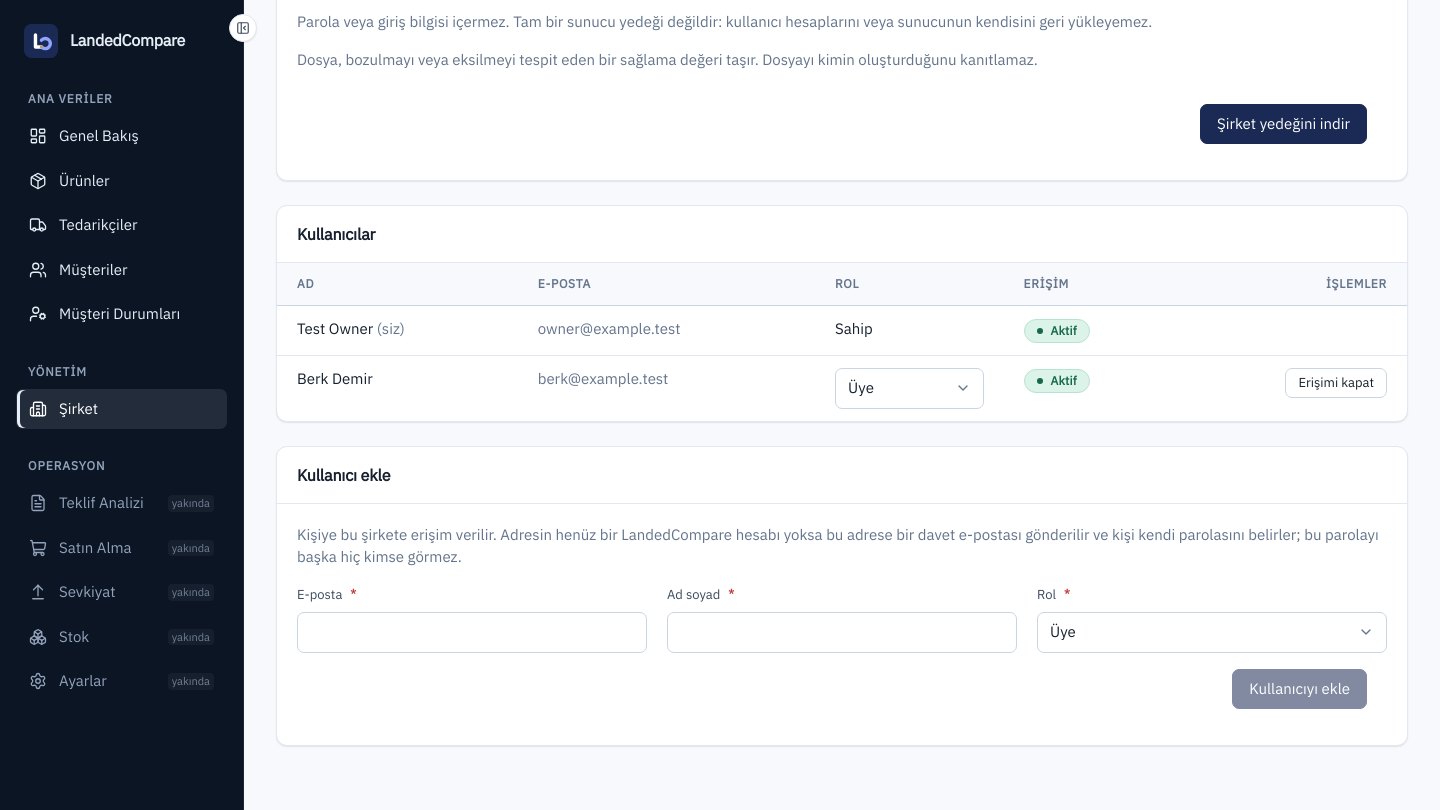
Test case: the company screen for an OWNER › an invitation for an address that already has an account shows the very same sentence (P12-M2)
This screenshot has width=1440, height=810.
(page scrolled)
expect the navigation bar named "Ana menü" is shown: met, box [16,82,227,790]
Type "berk@example.test" into the field labelled "E-posta".
click(472, 632); type("berk@example.test")  # box [297,612,647,653]
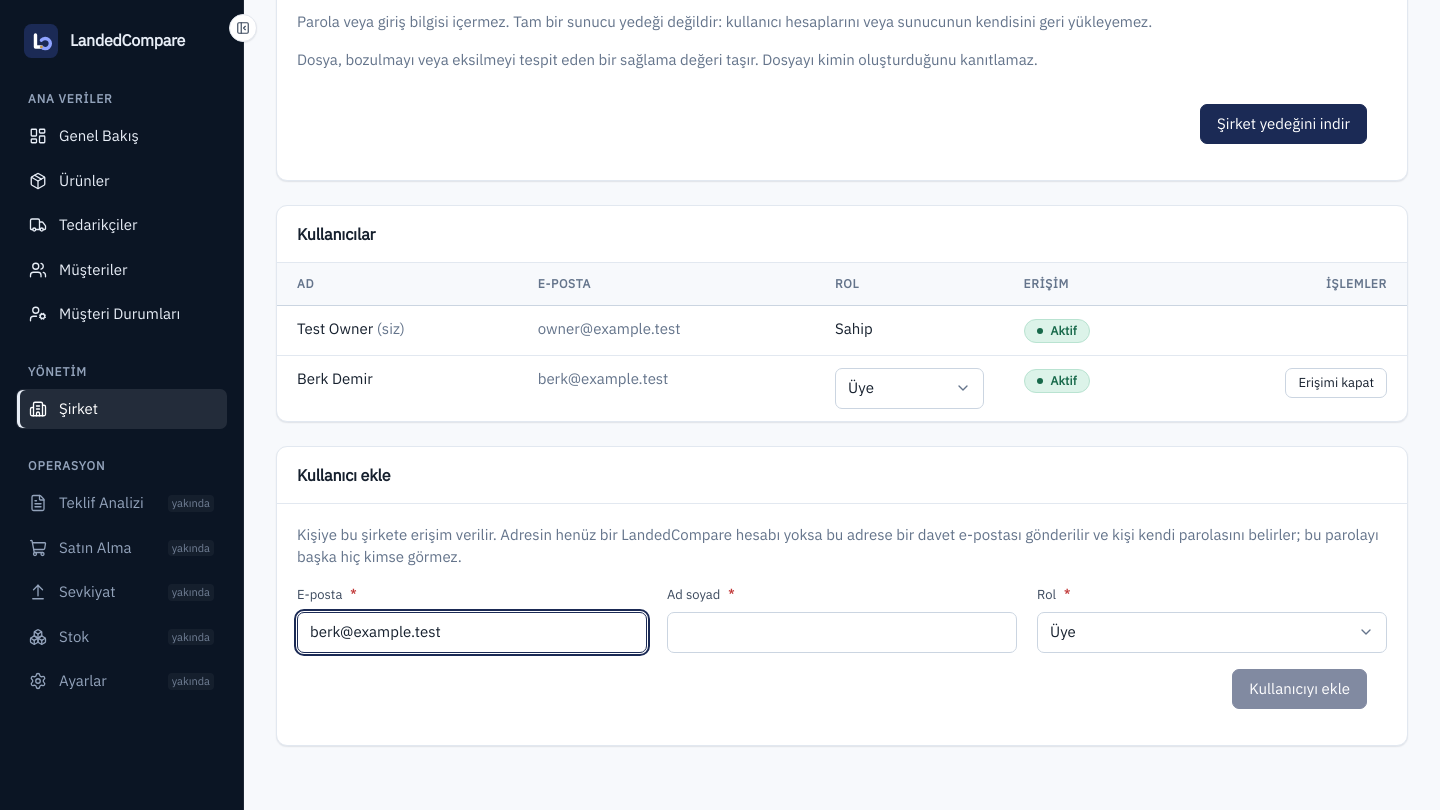
Type "Berk Demir" into the field labelled "Ad soyad".
click(842, 632); type("Berk Demir")  # box [667,612,1017,653]
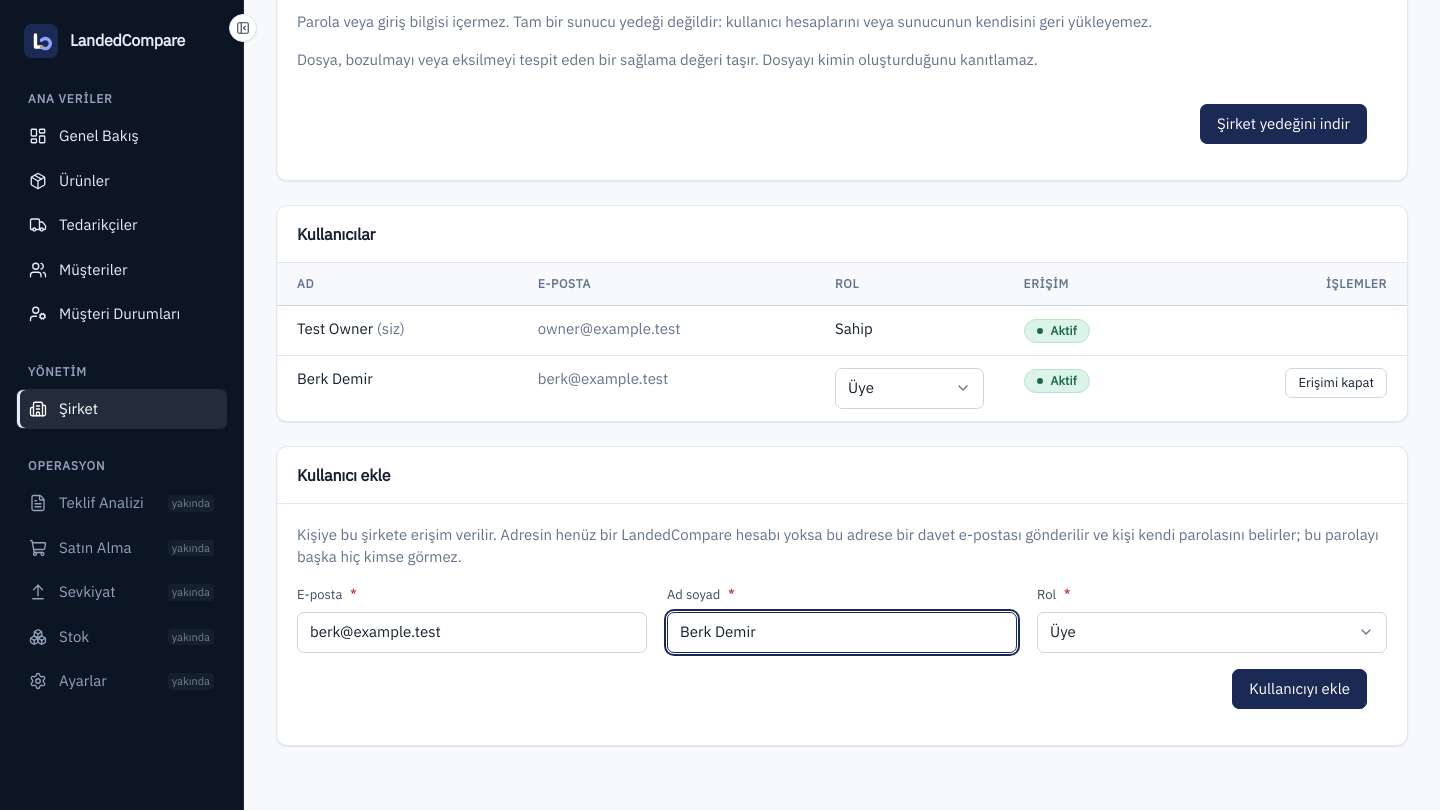
Click the button "Kullanıcıyı ekle".
click(1300, 689)  # box [1232,669,1367,709]
(page scrolled)
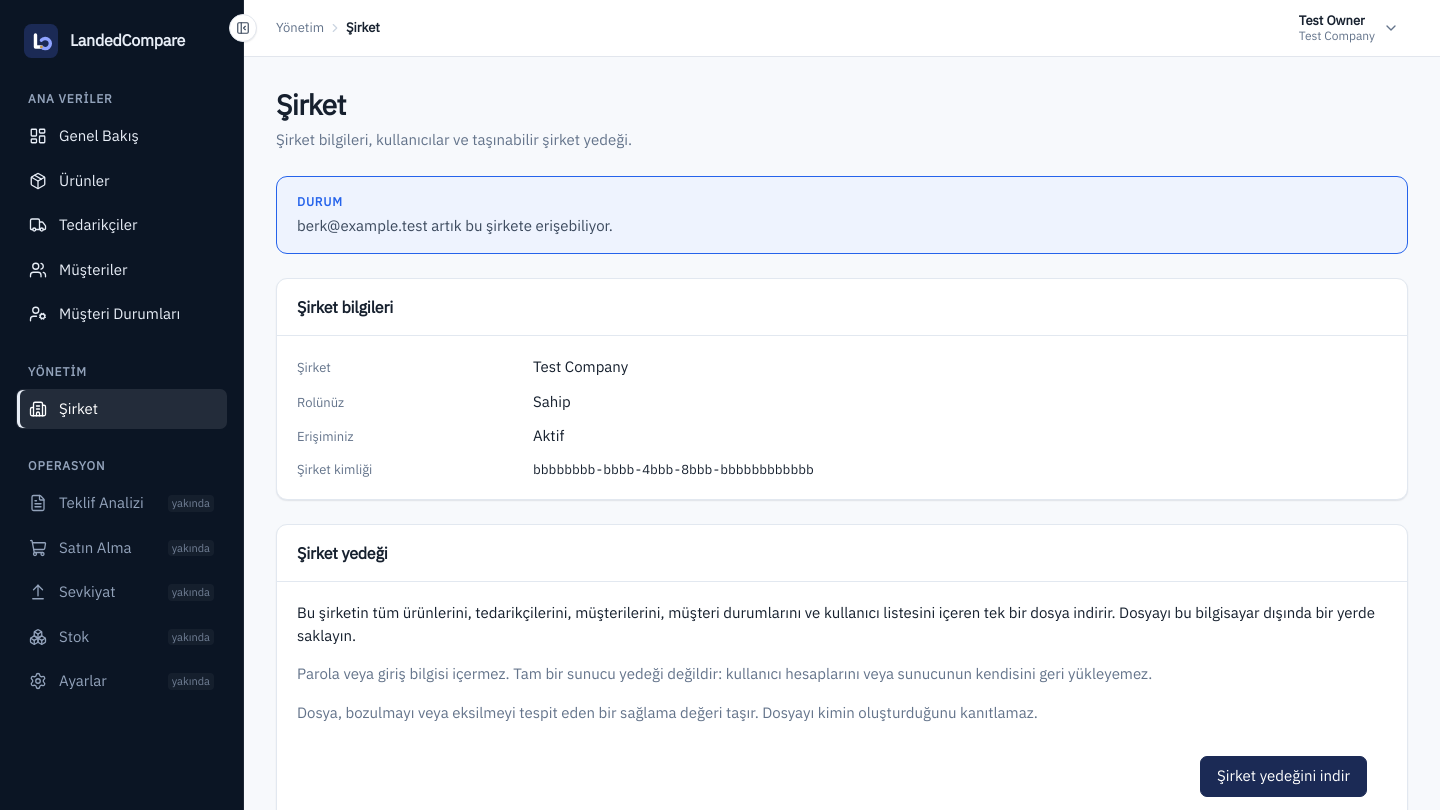
expect the text "berk@example.test artık bu şirkete erişebiliyor." is shown: met, box [297,215,613,237]
